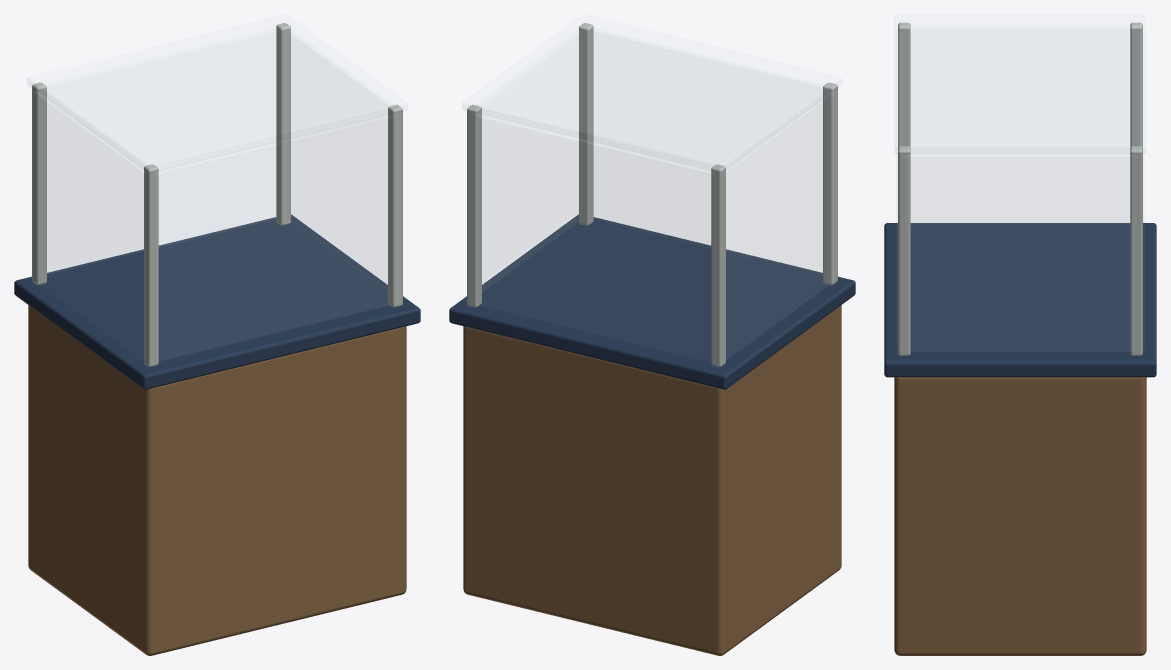
Rendered from planetarium-and-optical-observatory-meteorite-display--acda0f0a__31841.glb.
3 renders of one model, left to right at view 1: azimuth 30°, elevation 25°; view 2: azimuth 150°, elevation 25°; view 3: azimuth 270°, elevation 25°, orthographic. The views are drawn at different scales.
Parts seen in each view (by area): view 1: meteorite-display-case; view 2: meteorite-display-case; view 3: meteorite-display-case.
Boxes of the visible parts, x1,y1,x2,y2 form: meteorite-display-case: (14,23,420,655); meteorite-display-case: (449,23,855,655); meteorite-display-case: (884,22,1156,655).
Size of the model in its own units: 0.66 by 1.12 by 0.54.
